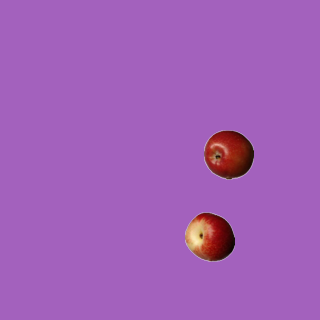Apple Braeburn: (203, 129, 253, 179)
Nectarine: (184, 211, 234, 261)
